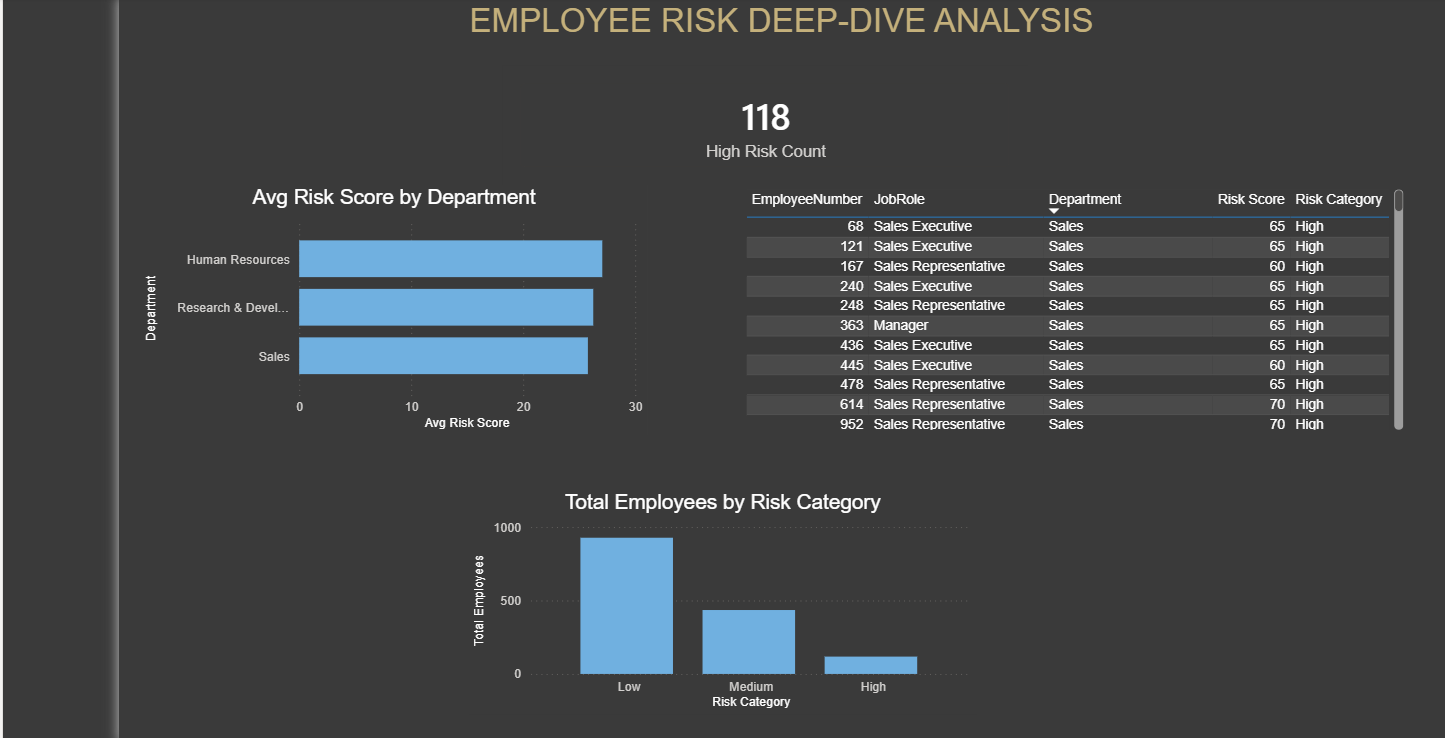

The page's visual inventory and layout, read from the dashboard file:
{"tool":"powerbi","page":{"name":"Risk Analysis","canvas":[1280,720],"ordinal":1},"visuals":[{"type":"textbox","box":[266.6,0,745.6,50.7],"z":0},{"type":"cardVisual","fields":{"Data":["HR_Analytics.High Risk Count"]},"box":[370.4,66.4,506.7,115.8],"z":1},{"type":"clusteredBarChart","fields":{"Y":["HR_Analytics.Avg Risk Score"],"Category":["HR_Analytics.Department"]},"box":[20.6,181.1,489.9,241.5],"z":2},{"type":"tableEx","fields":{"Values":["HR_Analytics.EmployeeNumber","HR_Analytics.JobRole","HR_Analytics.Department","HR_Analytics.Risk Score","HR_Analytics.Risk Category"]},"box":[599.7,181.1,644.9,241.5],"z":3},{"type":"clusteredColumnChart","fields":{"Category":["HR_Analytics.Risk Category"],"Y":["HR_Analytics.Total Employees"]},"box":[337.6,474.8,489.9,216.8],"z":4}]}

Visuals, with their boxes on the page's 1280x720 design canvas (x1, y1, x2, y2). These are canvas units, not pixel positions in the 1445x738 screenshot, which may show the page scaled, cropped or inside an application window:
textbox: [267,0,1012,51]
cardVisual - HR_Analytics.High Risk Count: [370,66,877,182]
clusteredBarChart - HR_Analytics.Avg Risk Score x HR_Analytics.Department: [21,181,510,423]
tableEx - HR_Analytics.EmployeeNumber x HR_Analytics.JobRole: [600,181,1245,423]
clusteredColumnChart - HR_Analytics.Risk Category x HR_Analytics.Total Employees: [338,475,828,692]
